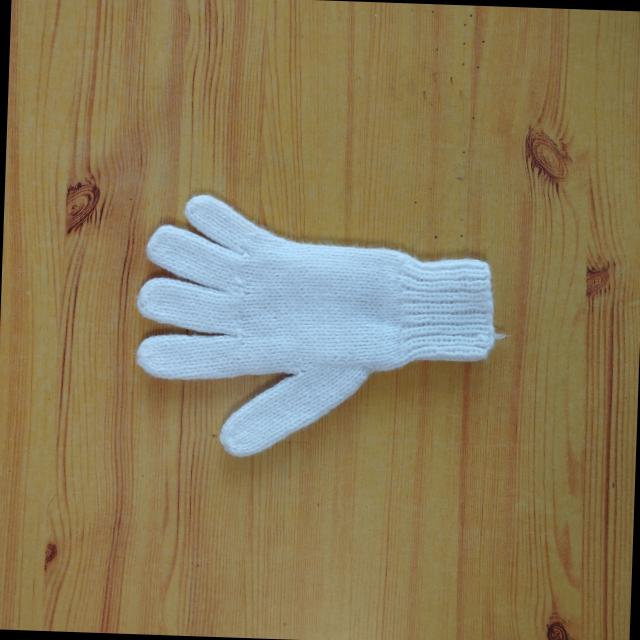Guante: (129, 189, 512, 467)
